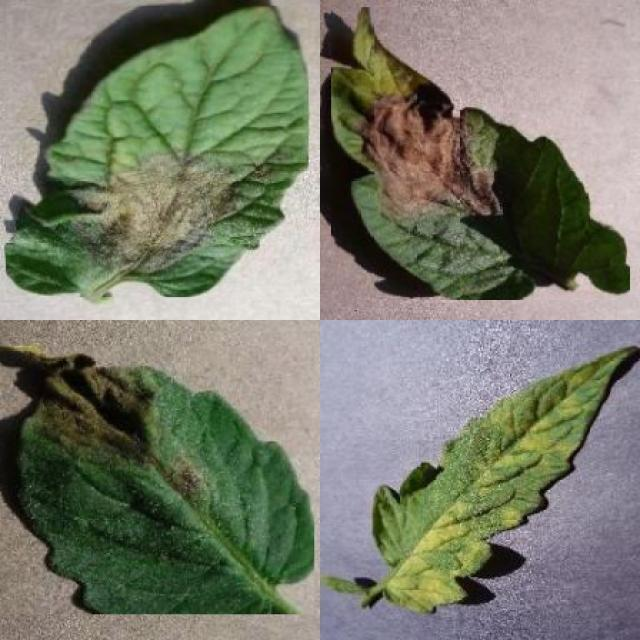Late Blight: (7, 6, 310, 297), (330, 7, 630, 300), (0, 346, 314, 614)
Leaf Mold: (372, 347, 640, 620)
